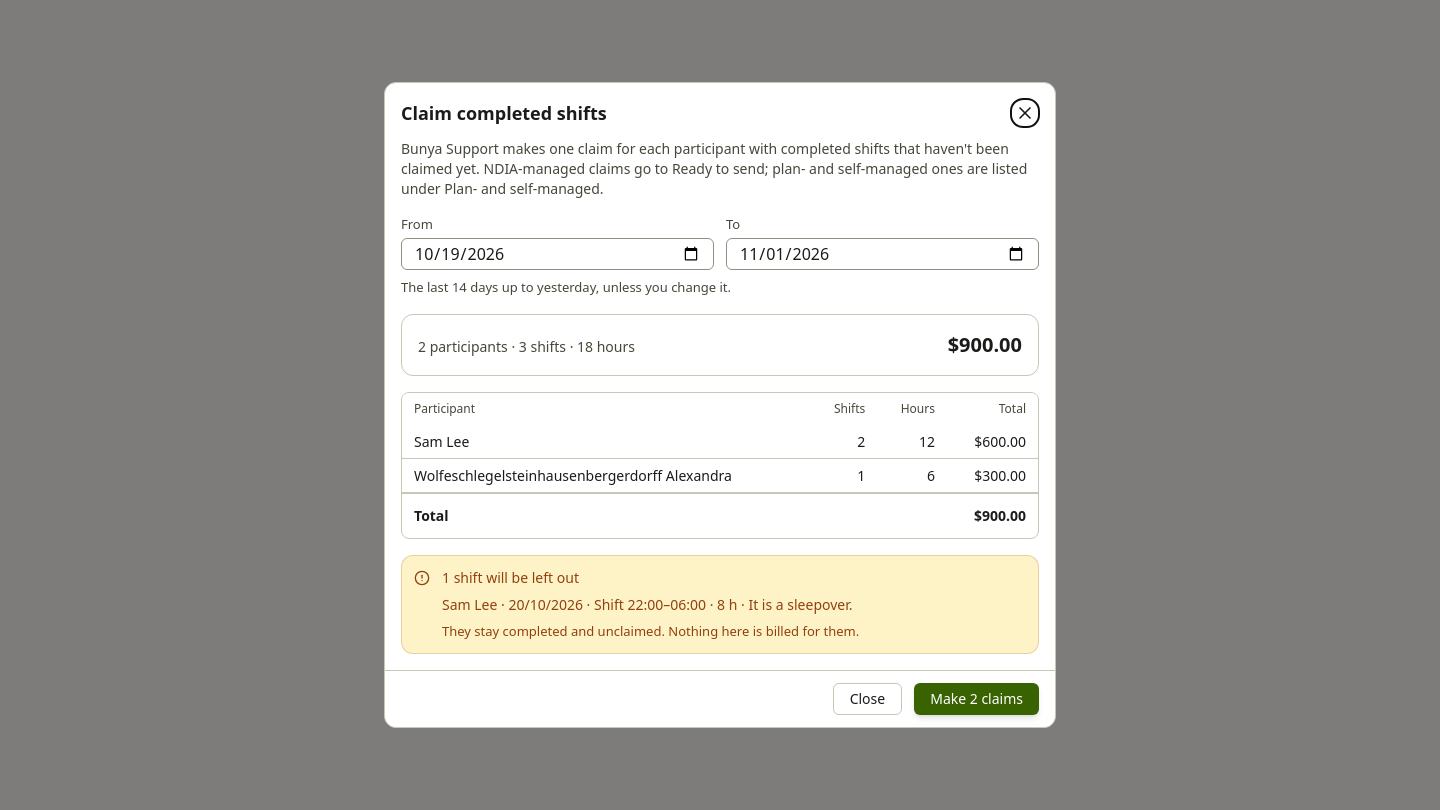
ShiftClaimRunModal › shows a failed run with the safe-to-retry sentence
Click the button "Make 2 claims" at (977, 699), box left=914, top=683, right=1039, bottom=715
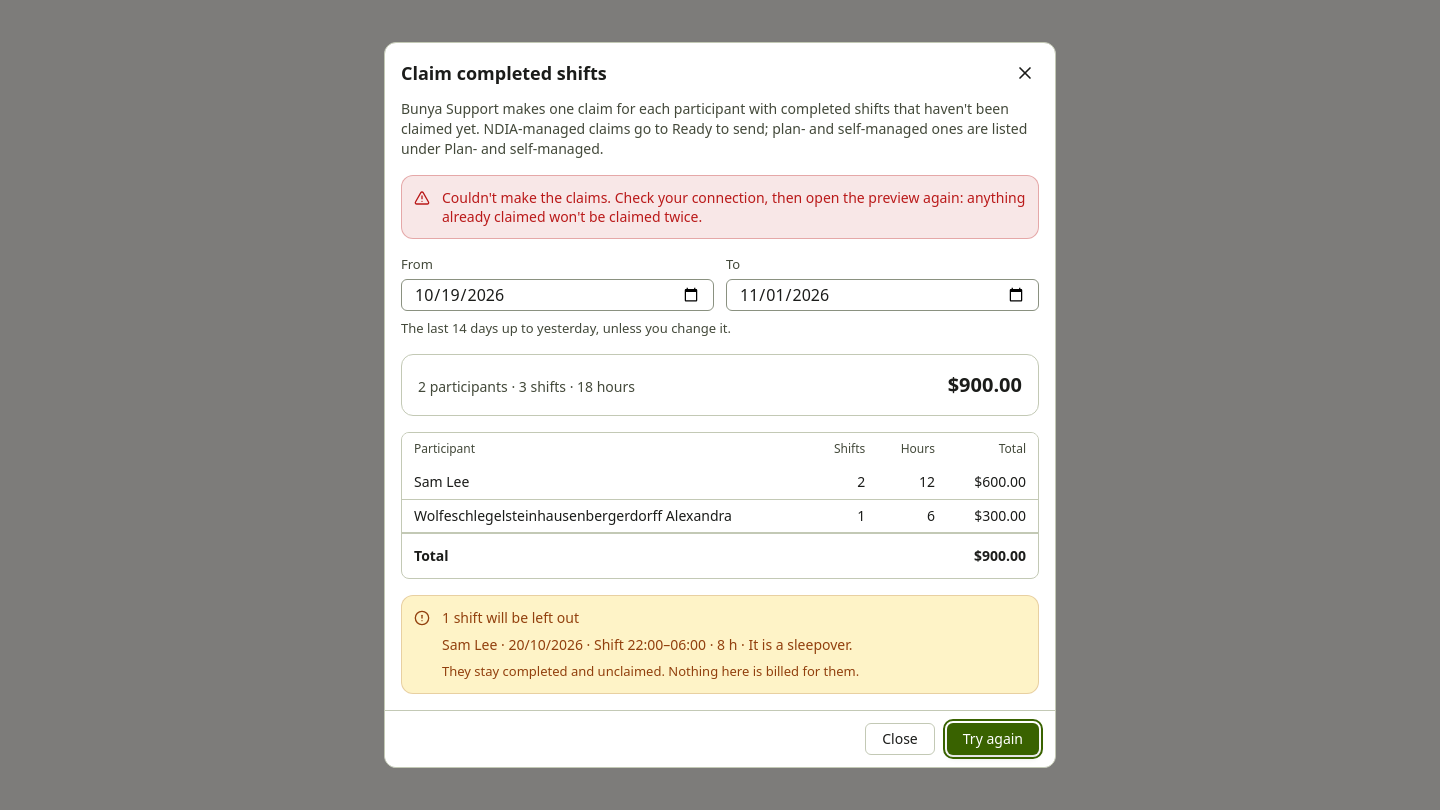
Expected: the text "anything already claimed won't be claimed twice" is shown, left=442, top=188, right=1025, bottom=226
Expected: the button "Try again" is shown, left=947, top=723, right=1039, bottom=755
